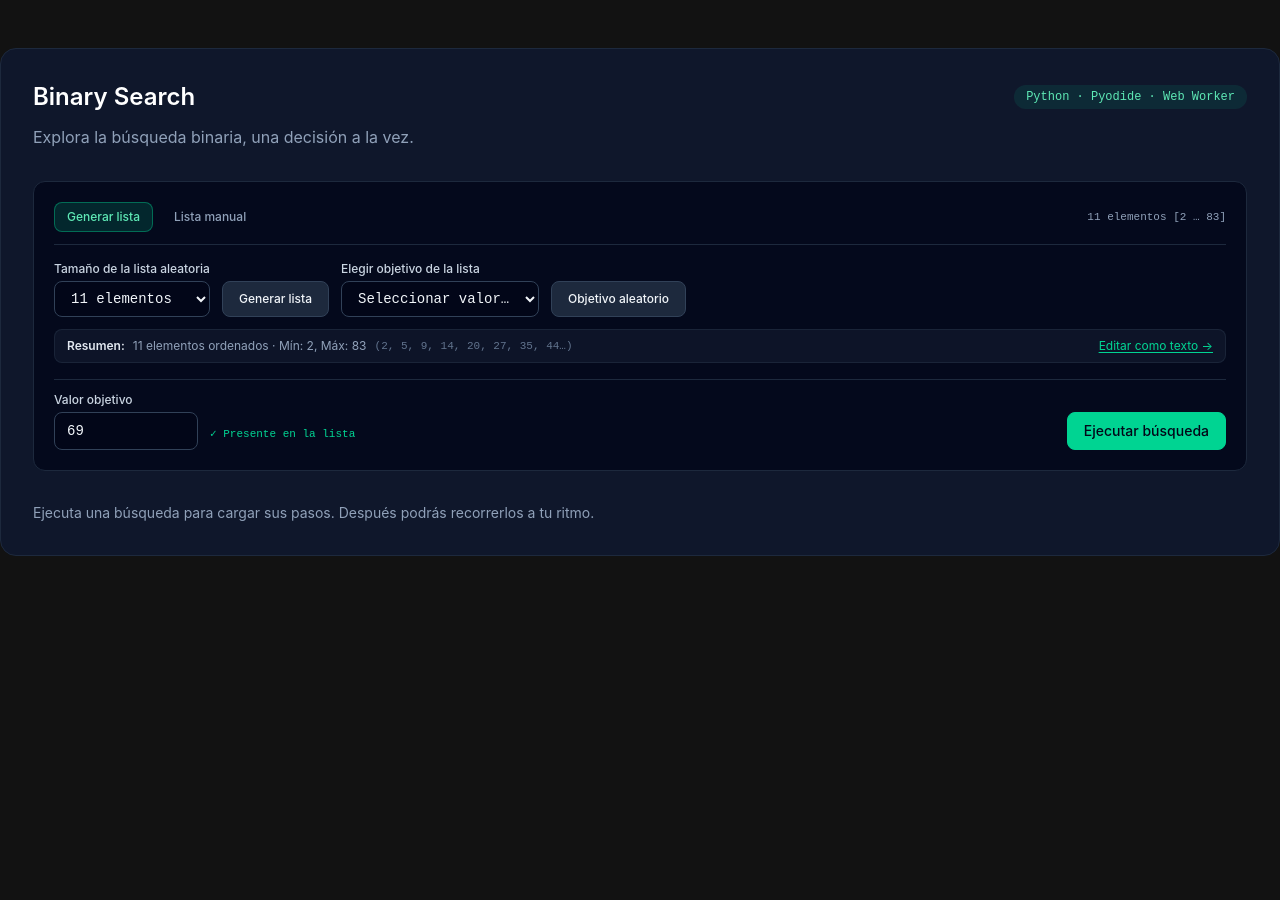
Test: Visualización por eventos › con 11 elementos unifica el escenario y no muestra gráfico redundante, pero activa minimapa con 256
Click the button "Ejecutar búsqueda" at point(1146, 431), box [1067, 412, 1226, 450]
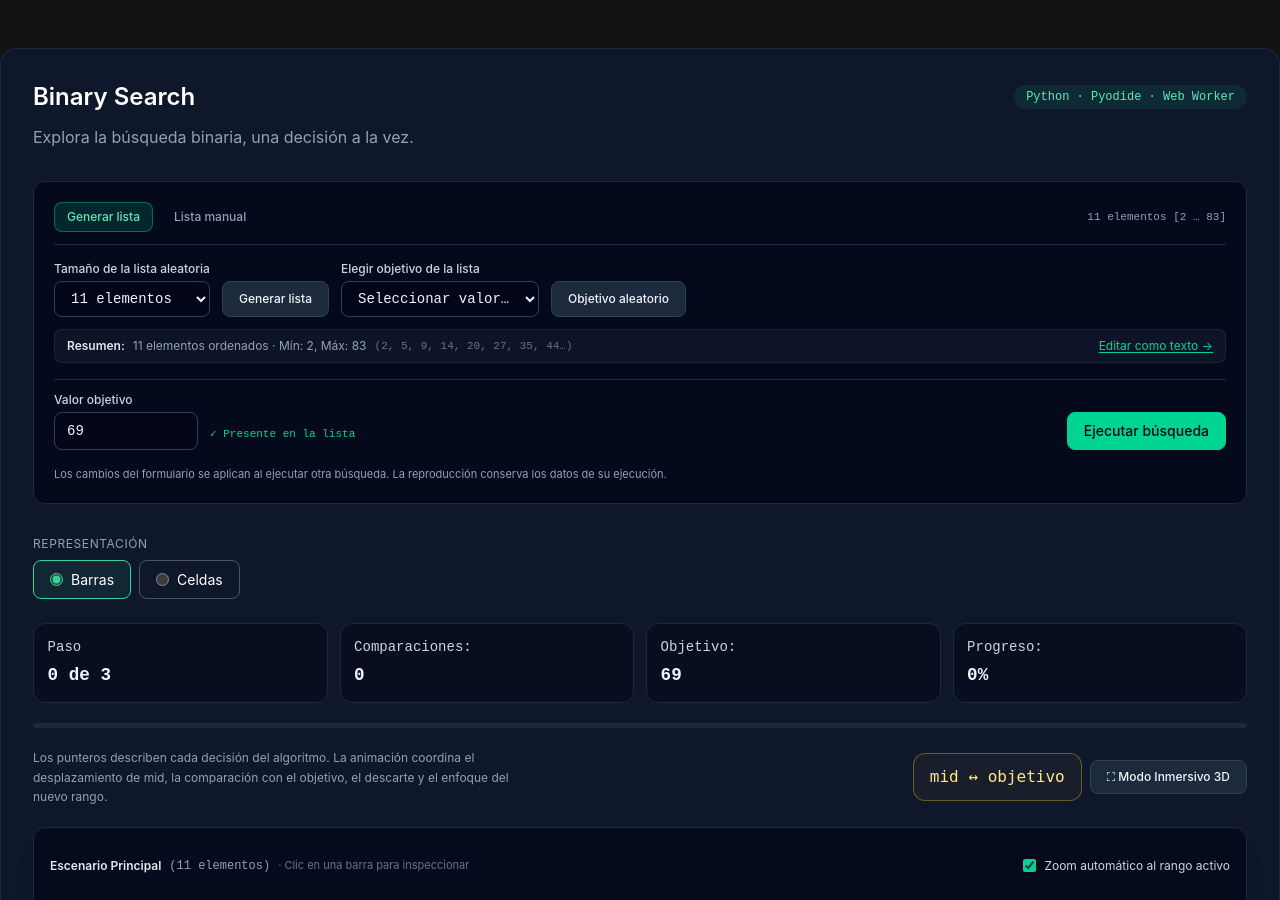
Select "256 elementos" in the dropdown labelled "Tamaño de la lista aleatoria" at point(132, 299), box [54, 281, 210, 317]
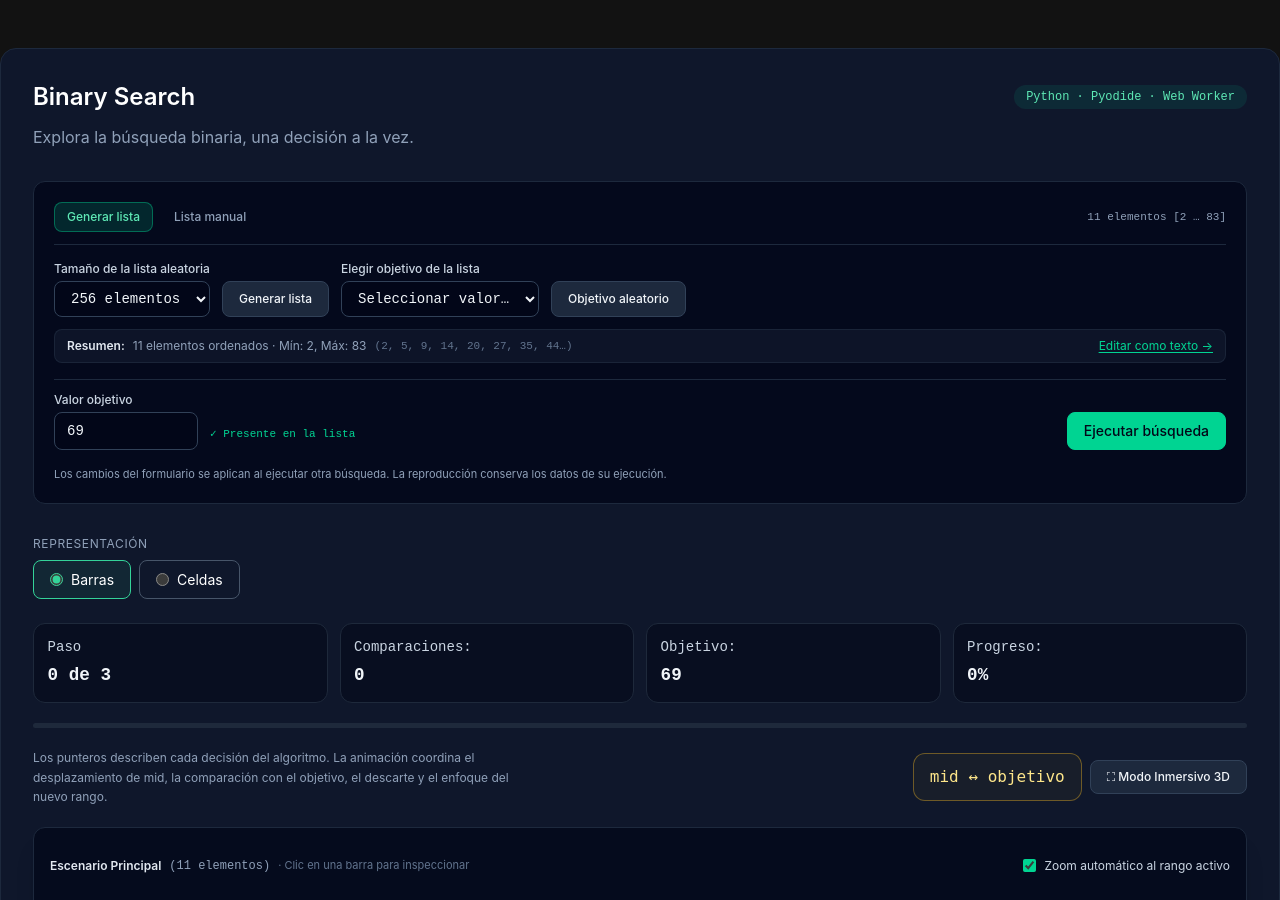
Click the button "Generar lista" at point(276, 299), box [222, 281, 329, 317]
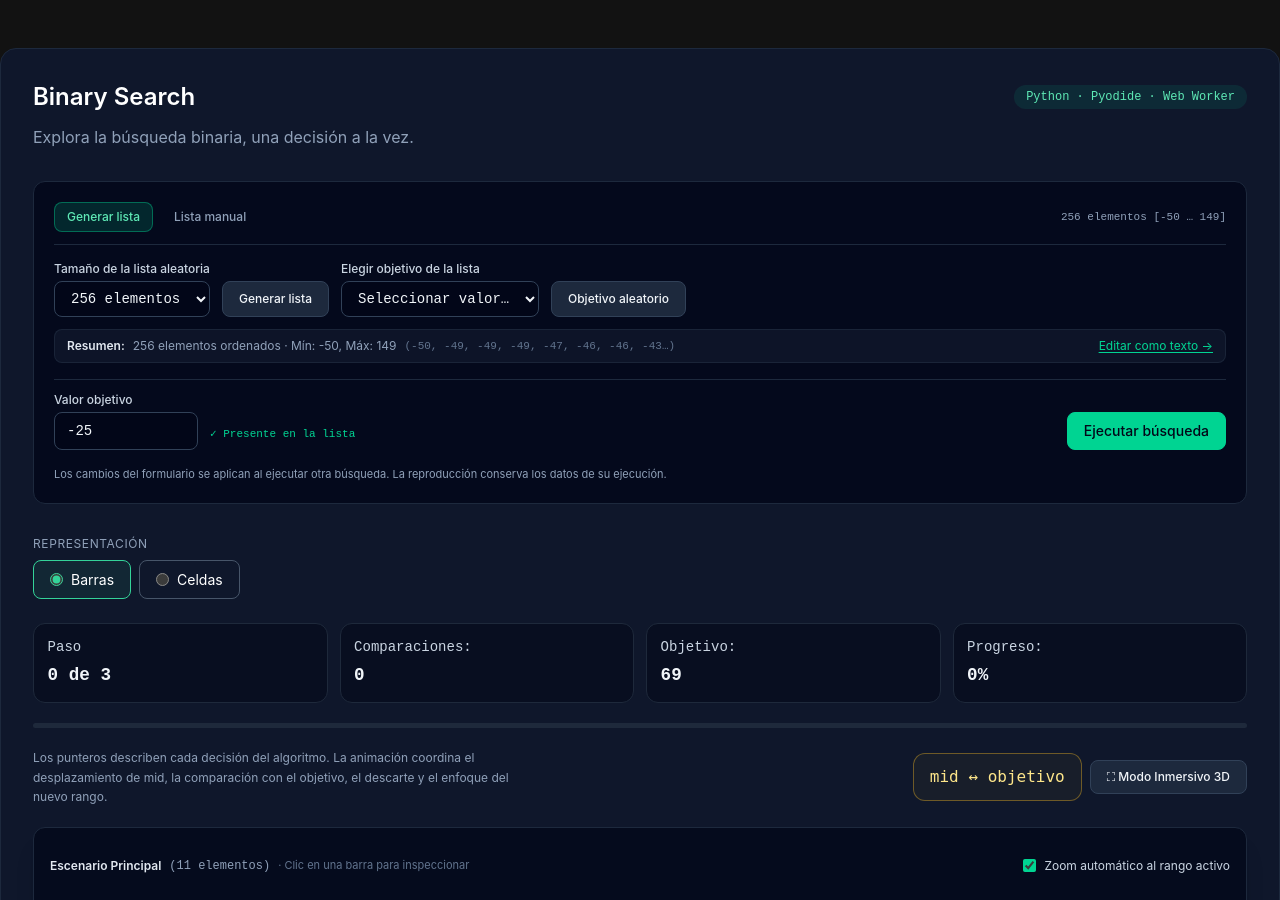
Click the button "Ejecutar búsqueda" at point(1146, 431), box [1067, 412, 1226, 450]
(page scrolled)
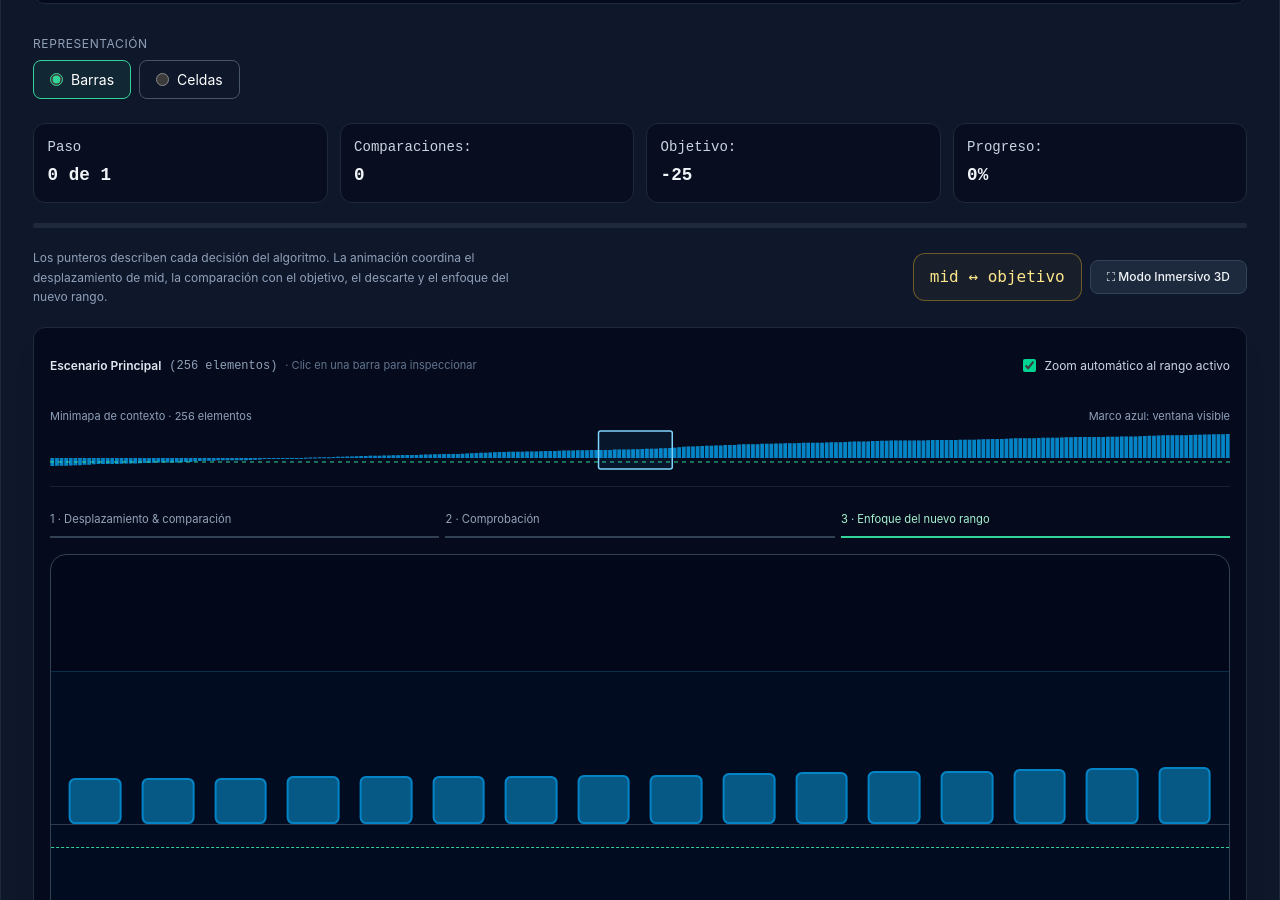
Check: the picture named "Vista general de los 256 elementos" is shown, box [50, 430, 1230, 470]
